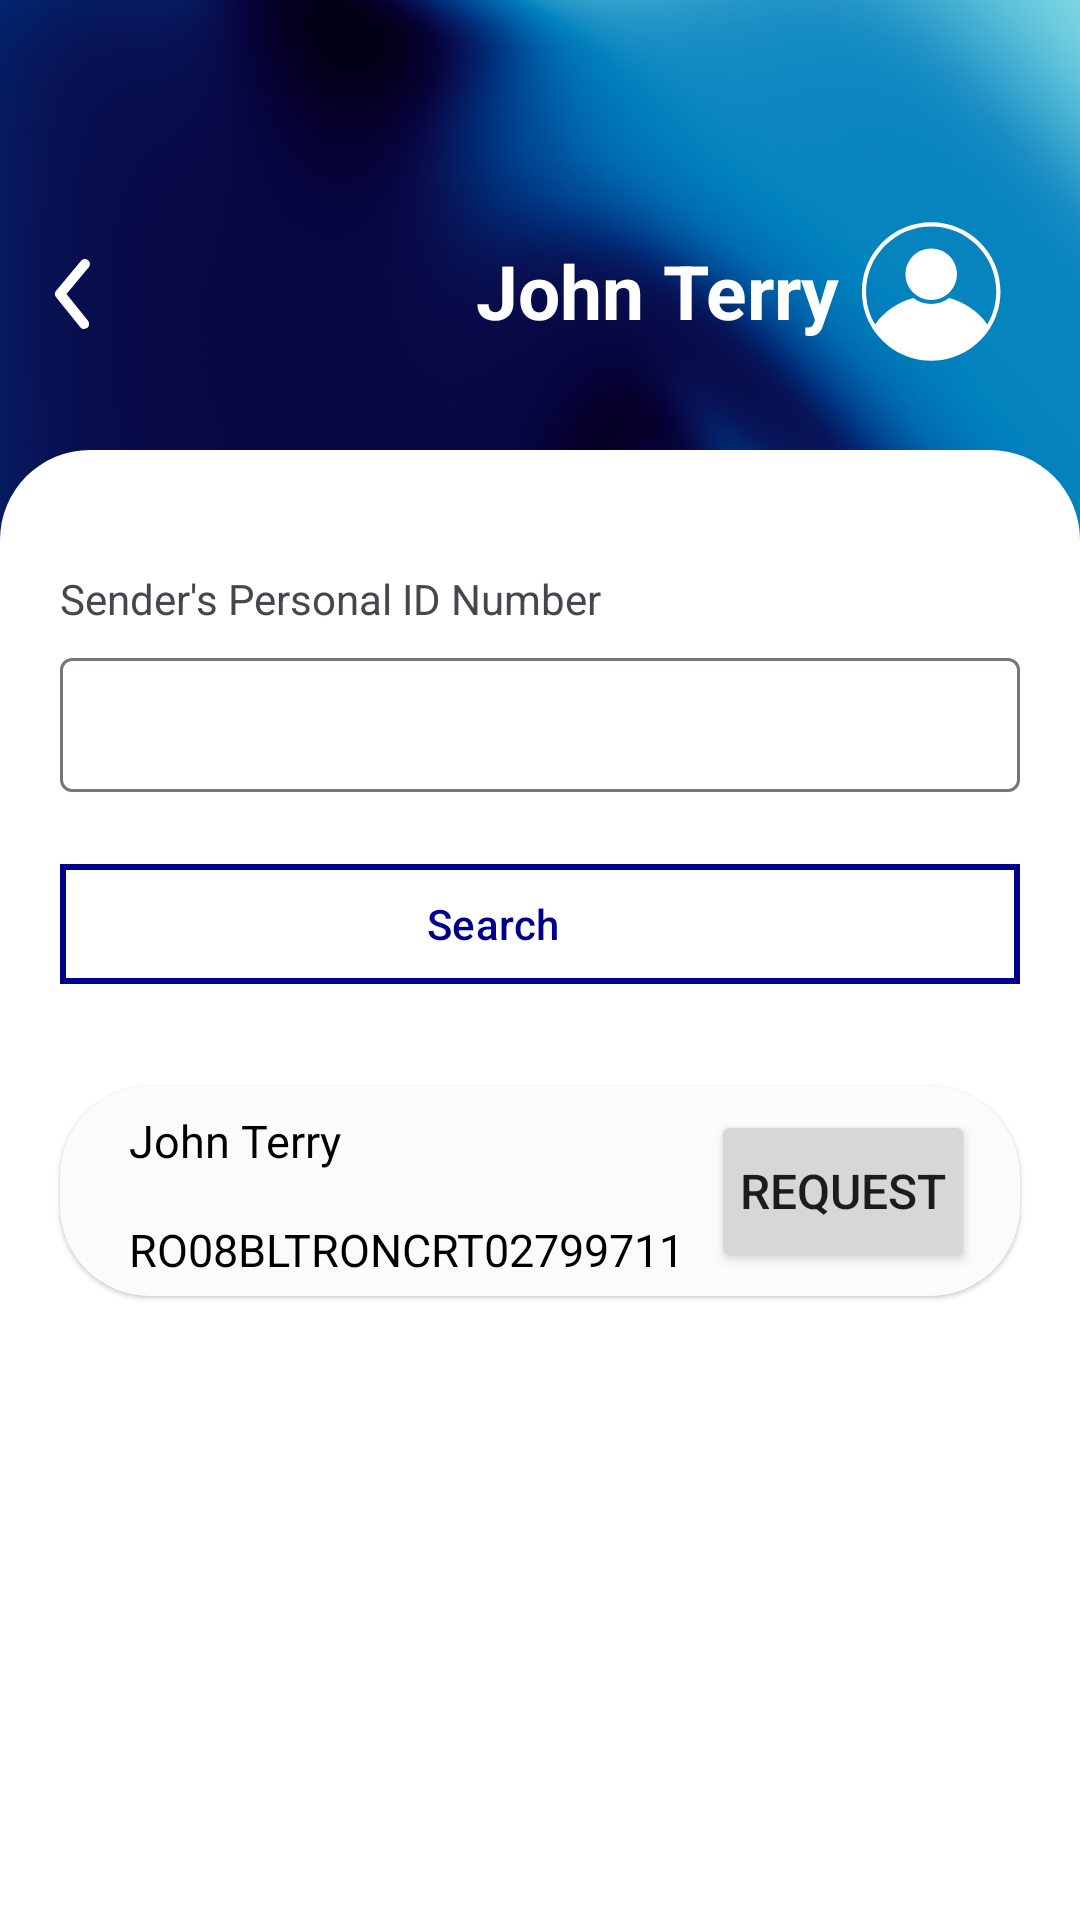

Where icons sit on this 1080×1920 app screen, as (x1, y1, x2, y2):
back arrow: (54, 259, 90, 329)
profile picture round: (862, 222, 1001, 361)
